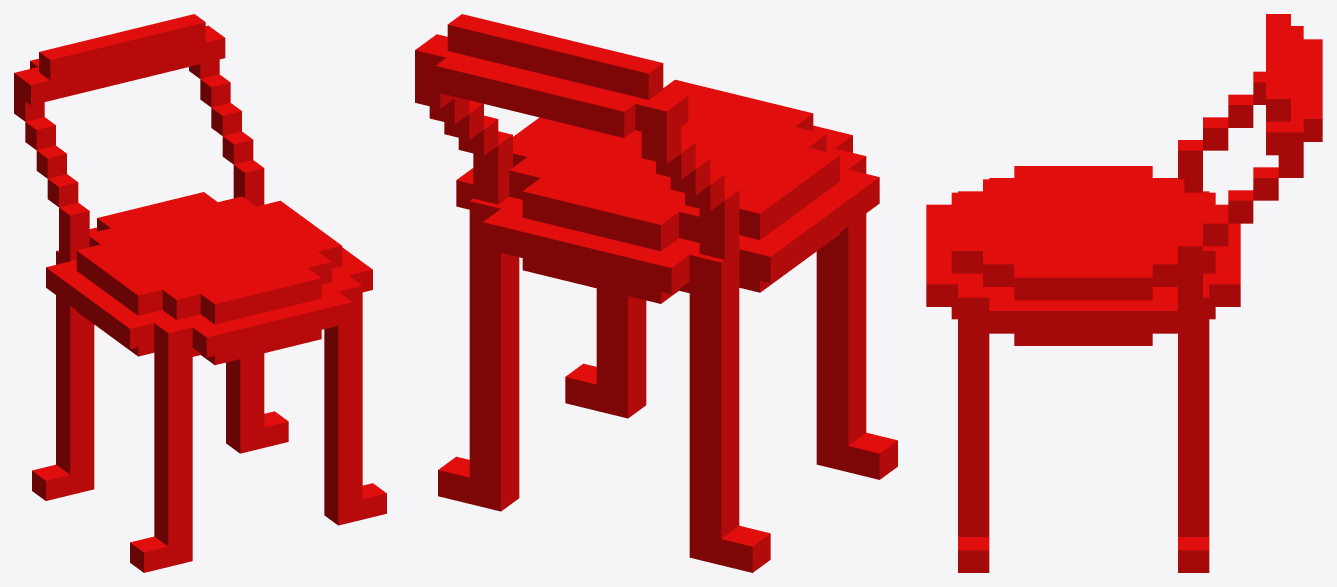
The model's file is redchair.glb.
The picture shows the model from 3 angles, left to right: view 1: azimuth 30°, elevation 25°; view 2: azimuth 150°, elevation 25°; view 3: azimuth 270°, elevation 25°; orthographic projection. The views are drawn at different scales.
Parts seen in each view (by area): view 1: Brep.001; view 2: Brep.001; view 3: Brep.001.
Boxes of the visible parts, x1,y1,x2,y2 form: Brep.001: (14, 14, 386, 572); Brep.001: (415, 14, 897, 572); Brep.001: (926, 14, 1322, 572).
Bounding box in the file's own units: 0.4937 × 0.78 × 0.6221.
